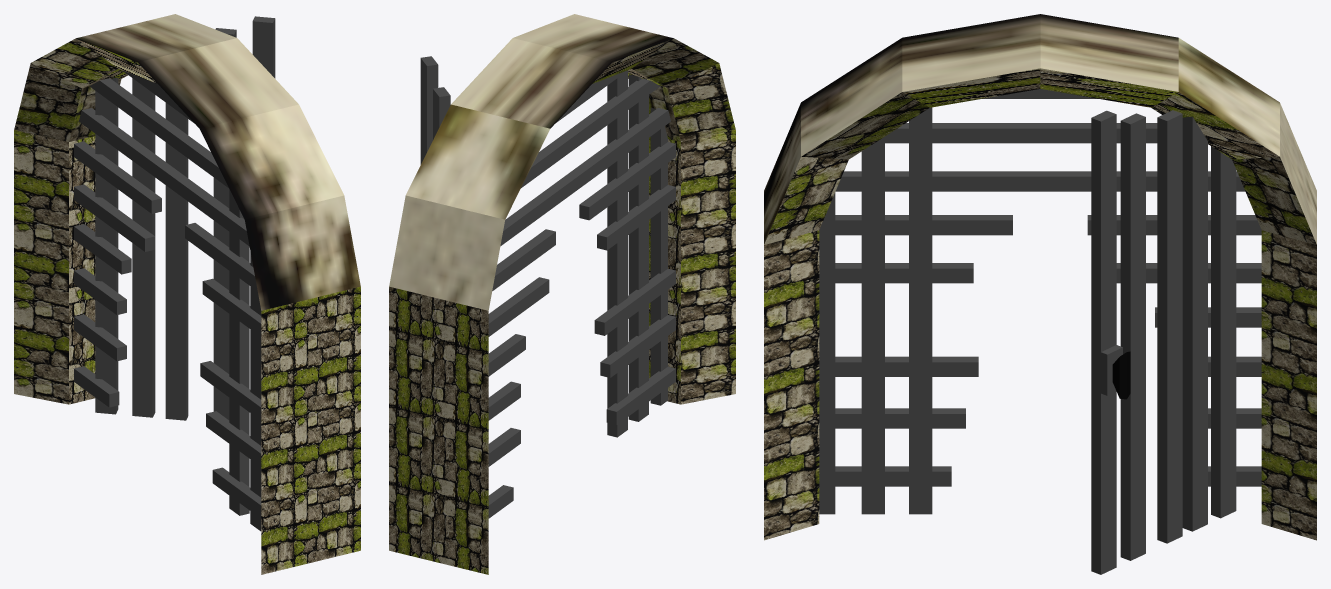
The model's file is doorOpen2.fbx.
3 renders of one model, left to right at view 1: azimuth 30°, elevation 25°; view 2: azimuth 150°, elevation 25°; view 3: azimuth 270°, elevation 25°, orthographic. The views are drawn at different scales.
Parts seen in each view (by area): view 1: Cube.001; view 2: Cube.001; view 3: Cube.001.
Boxes of the visible parts, left/top/right/bottom form: Cube.001: left=14, top=14, right=360, bottom=574; Cube.001: left=389, top=14, right=735, bottom=574; Cube.001: left=764, top=14, right=1316, bottom=574.
Bounding box in the file's own units: 142 × 334 × 354.
